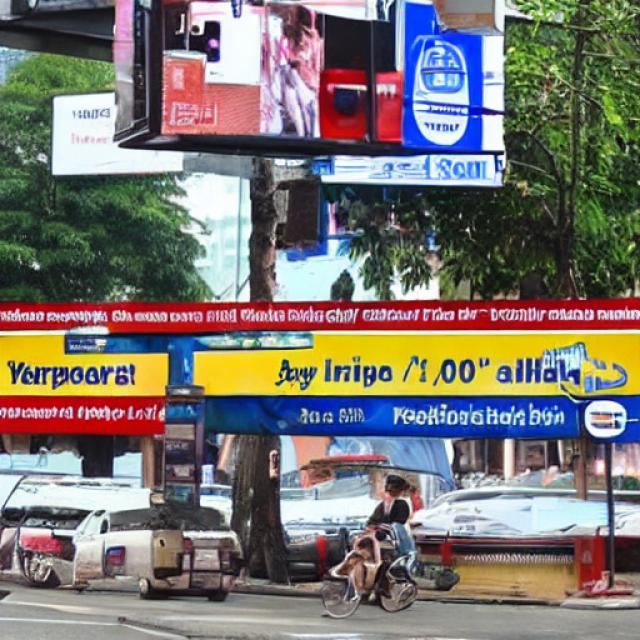Billboard: (0, 298, 640, 441), (111, 0, 513, 154)
